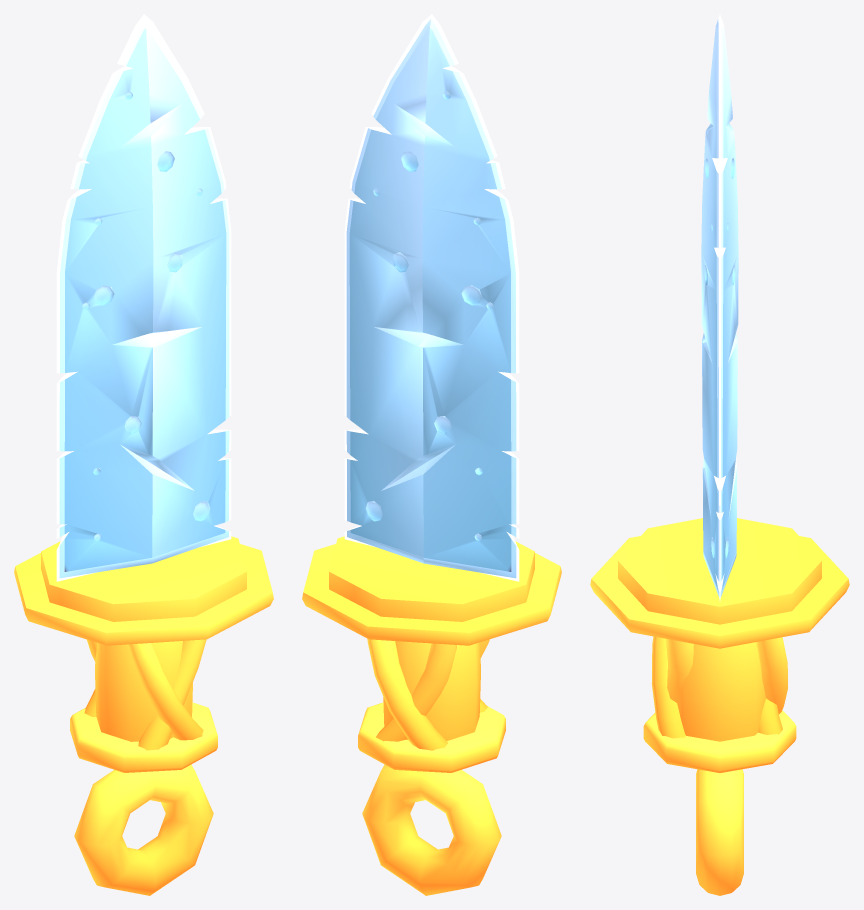
File: example_sword_013.glb
3 renders of one model, left to right at view 1: azimuth 30°, elevation 25°; view 2: azimuth 150°, elevation 25°; view 3: azimuth 270°, elevation 25°, orthographic.
Visible parts, largest first — view 1: example_sword.013; view 2: example_sword.013; view 3: example_sword.013.
Boxes of the visible parts, <box> form: example_sword.013: <box>14,14,273,895</box>; example_sword.013: <box>302,14,561,895</box>; example_sword.013: <box>590,14,849,895</box>.
Size of the model in its own units: 5.19 by 18.38 by 4.92.
1 material, 1 textured.
